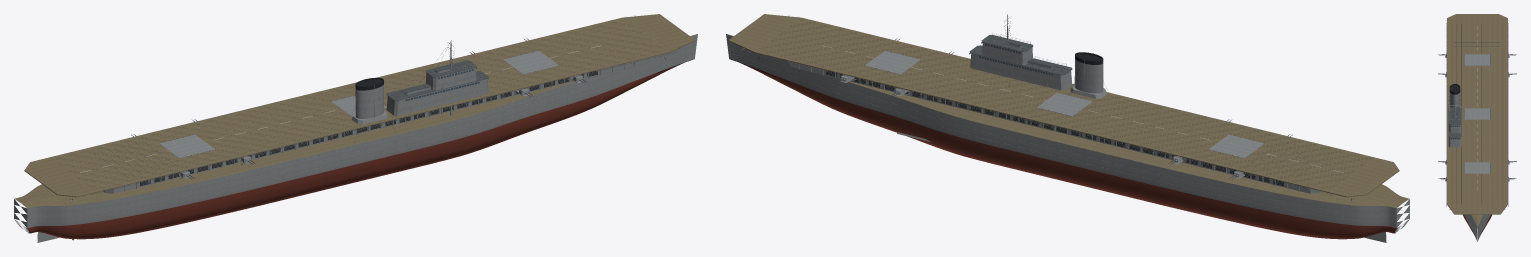
File: ark_royal_cv31.glb
3 views of the same model, side by side, from view 1: azimuth 30°, elevation 25°; view 2: azimuth 150°, elevation 25°; view 3: azimuth 270°, elevation 25° (orthographic). The views are drawn at different scales.
Parts seen in each view (by area): view 1: Ark Royal class; view 2: Ark Royal class; view 3: Ark Royal class.
Part boxes in pixels (<box>): Ark Royal class: <box>14,14,697,242</box>; Ark Royal class: <box>726,14,1409,242</box>; Ark Royal class: <box>1438,14,1516,241</box>.
Size of the model in its own units: 244 by 41.65 by 38.21.
Materials: 9 (8 with a texture image).
